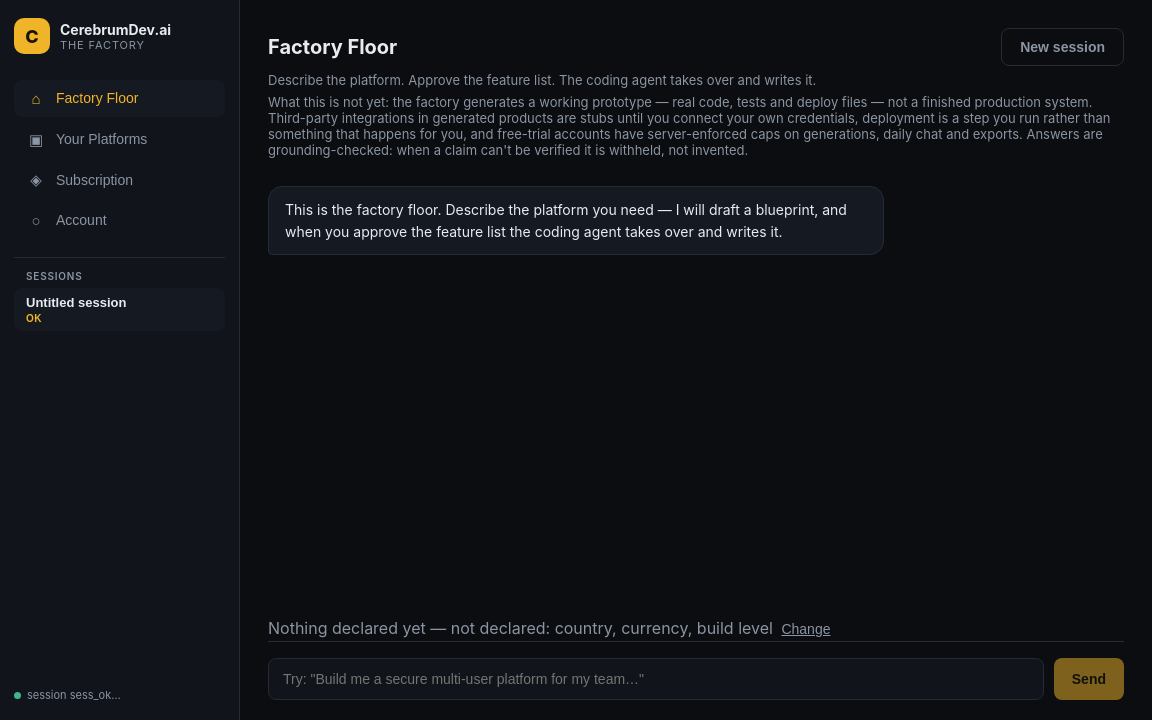
Scenario: App boot › shows New session on Floor and switches to the created session
Expected: the heading "Factory Floor" is shown, [268,35,397,59]
Click the button "New session" at coordinates (1063, 47), box [1001,28,1124,66]
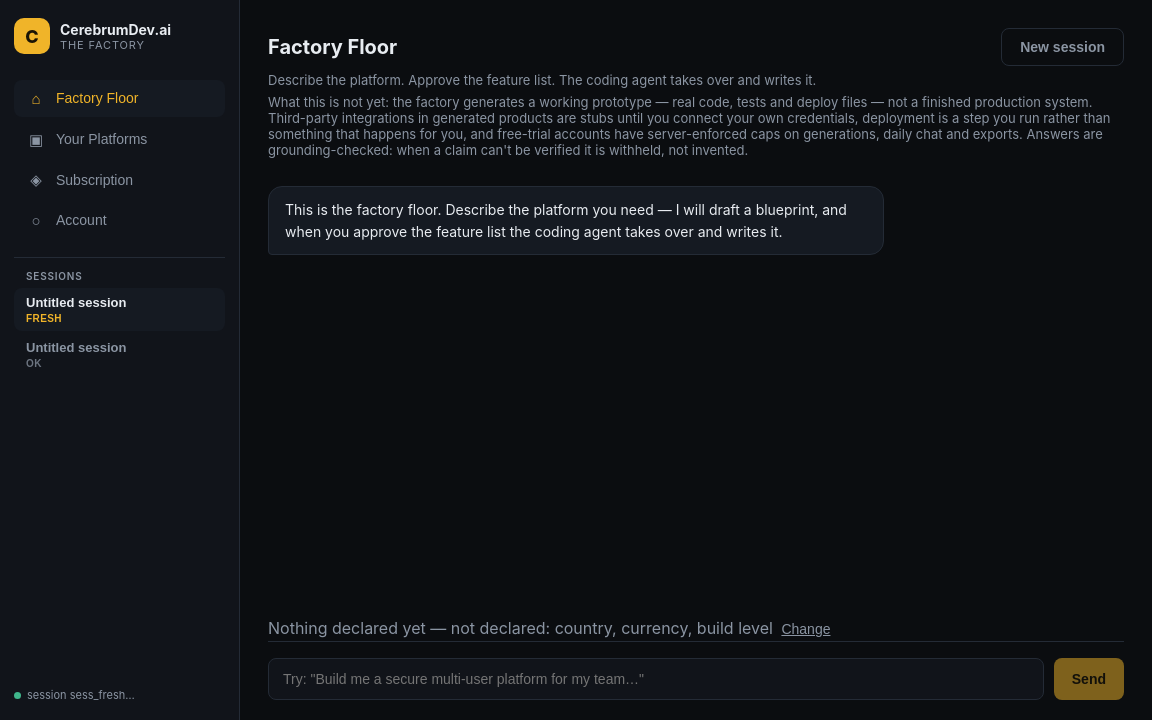
Now the text "session sess_fresh…" is shown, box [27,688,135,702]
